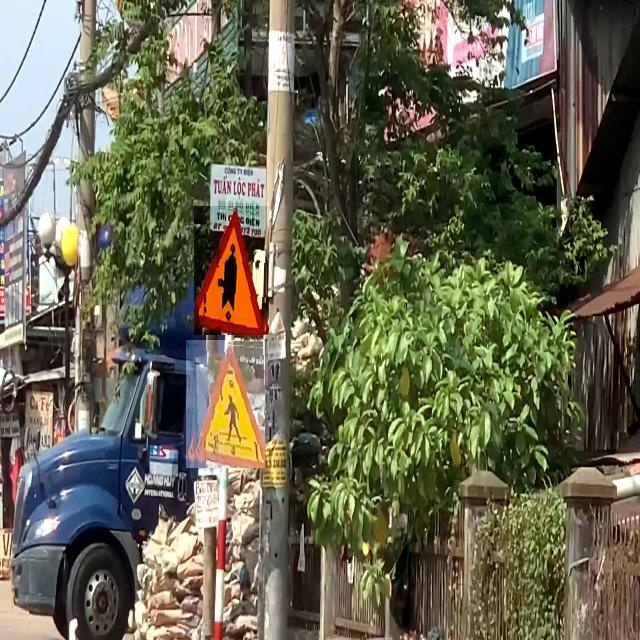bien_nguy_hiem: (186, 340, 265, 468), (194, 206, 269, 335)
